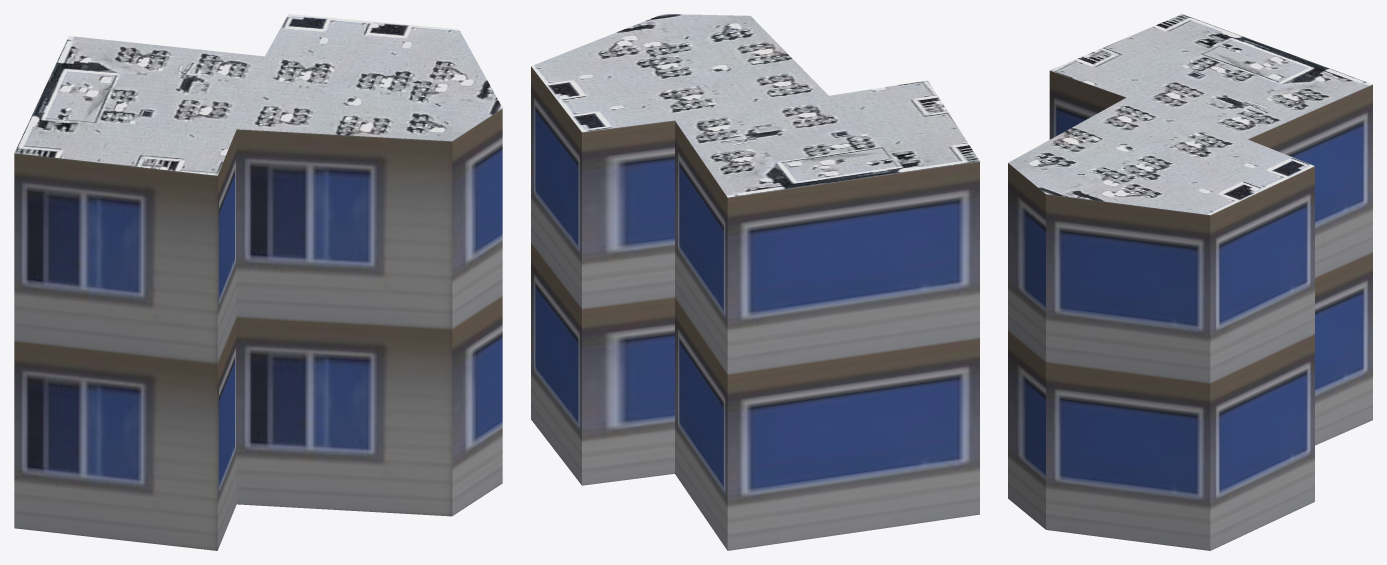
File: ResTex__3400.fbx
3 renders of one model, left to right at view 1: azimuth 30°, elevation 25°; view 2: azimuth 150°, elevation 25°; view 3: azimuth 270°, elevation 25°, orthographic. The views are drawn at different scales.
Visible parts, largest first — view 1: CityEngineMaterial_23_m, CityEngineMaterial_8_m; view 2: CityEngineMaterial_23_m, CityEngineMaterial_8_m; view 3: CityEngineMaterial_23_m, CityEngineMaterial_8_m.
Part boxes in pixels (left/top/right/bottom): CityEngineMaterial_23_m: left=14, top=108, right=502, bottom=550; CityEngineMaterial_8_m: left=14, top=14, right=502, bottom=175; CityEngineMaterial_23_m: left=531, top=66, right=979, bottom=550; CityEngineMaterial_8_m: left=531, top=14, right=979, bottom=197; CityEngineMaterial_23_m: left=1008, top=70, right=1372, bottom=550; CityEngineMaterial_8_m: left=1008, top=14, right=1372, bottom=215.
Size of the model in its own units: 7.71 by 6 by 5.91.
2 materials, 2 textured.
